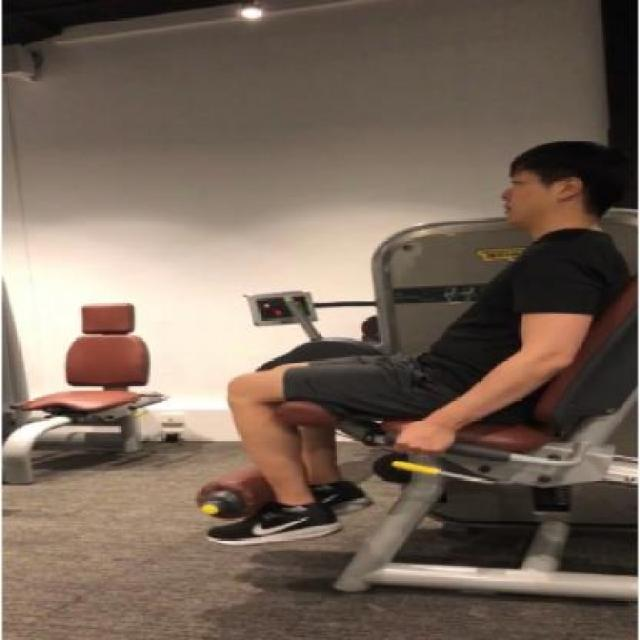leg extension: (161, 124, 640, 640)
